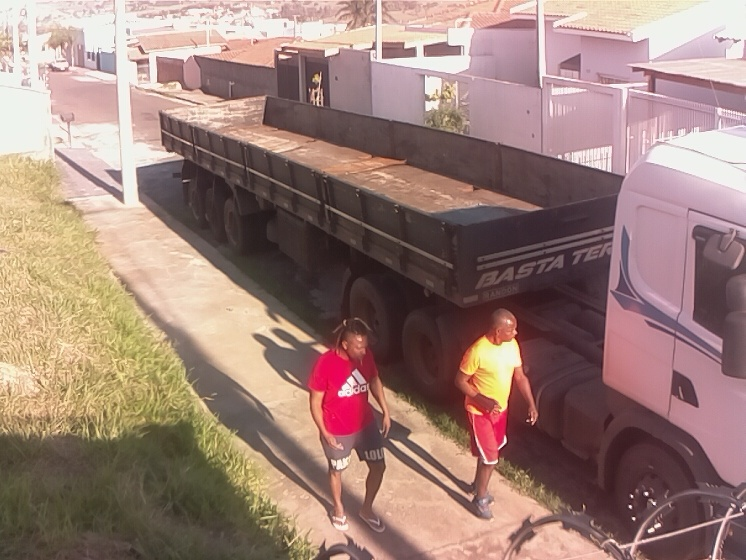person: (306, 317, 397, 538), (452, 306, 542, 525)
